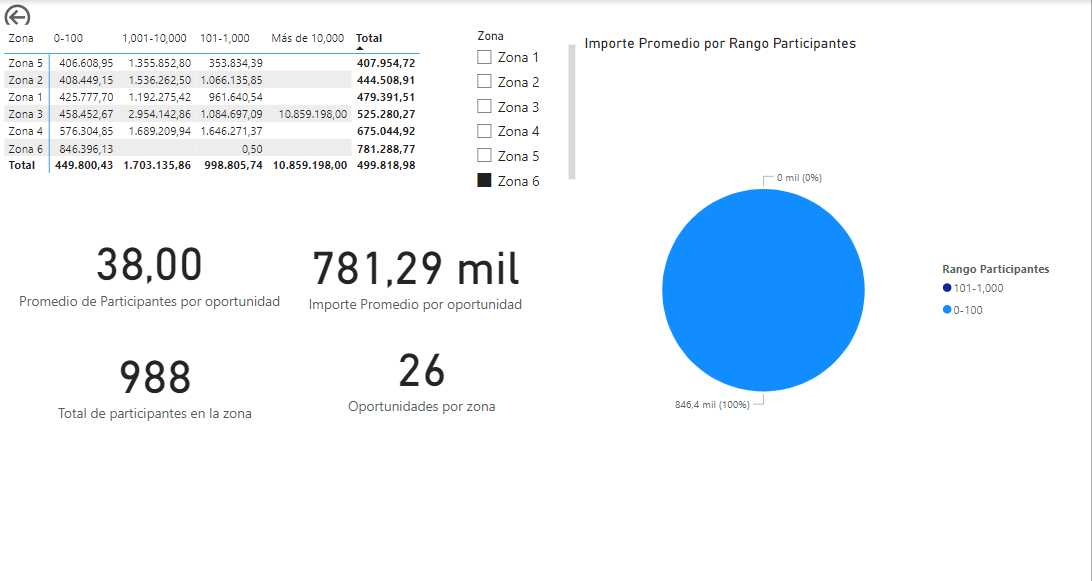

Layout of this report page (visuals, bound fields, positions):
{"tool":"powerbi","page":{"name":"P6_Relacion","canvas":[1280,720],"ordinal":5},"visuals":[{"type":"actionButton","box":[0,0,100,40],"z":0},{"type":"card","fields":{"Values":["T_OPORTUNIDADES_23_24.Importe Promedio"]},"box":[349.5,252.5,273.7,129.3],"z":1000},{"type":"card","fields":{"Values":["Avg(T_OPORTUNIDADES_23_24.Participantes)"]},"box":[12.1,245.5,324.2,136.4],"z":2000},{"type":"pivotTable","fields":{"Rows":["T_OPORTUNIDADES_23_24.Zona"],"Values":["T_OPORTUNIDADES_23_24.Importe Promedio"],"Columns":["T_OPORTUNIDADES_23_24.Rango Participantes"]},"box":[0,28.3,536.4,198],"z":3000},{"type":"card","fields":{"Values":["CountNonNull(T_OPORTUNIDADES_23_24.IdOportunidad)"]},"box":[375.8,373.7,237.4,126.3],"z":4000},{"type":"slicer","fields":{"Values":["T_OPORTUNIDADES_23_24.Zona"]},"box":[546.5,28.3,133.3,198],"z":5000},{"type":"card","fields":{"Values":["Sum(T_OPORTUNIDADES_23_24.Participantes)"]},"box":[25.3,381.8,311.1,126.3],"z":6000},{"type":"pieChart","fields":{"Category":["T_OPORTUNIDADES_23_24.Zona","T_OPORTUNIDADES_23_24.Rango Participantes"],"Y":["T_OPORTUNIDADES_23_24.Importe Promedio"]},"box":[680,40,568.3,580],"z":7000}]}

Visuals, with their boxes on the page's 1280x720 design canvas (x1, y1, x2, y2). These are canvas units, not pixel positions in the 1092x581 screenshot, which may show the page scaled, cropped or inside an application window:
actionButton: <box>0,0,100,40</box>
card - T_OPORTUNIDADES_23_24.Importe Promedio: <box>350,252,623,382</box>
card - Avg(T_OPORTUNIDADES_23_24.Participantes): <box>12,246,336,382</box>
pivotTable - T_OPORTUNIDADES_23_24.Zona x T_OPORTUNIDADES_23_24.Importe Promedio: <box>0,28,536,226</box>
card - CountNonNull(T_OPORTUNIDADES_23_24.IdOportunidad): <box>376,374,613,500</box>
slicer - T_OPORTUNIDADES_23_24.Zona: <box>546,28,680,226</box>
card - Sum(T_OPORTUNIDADES_23_24.Participantes): <box>25,382,336,508</box>
pieChart - T_OPORTUNIDADES_23_24.Zona x T_OPORTUNIDADES_23_24.Rango Participantes: <box>680,40,1248,620</box>
